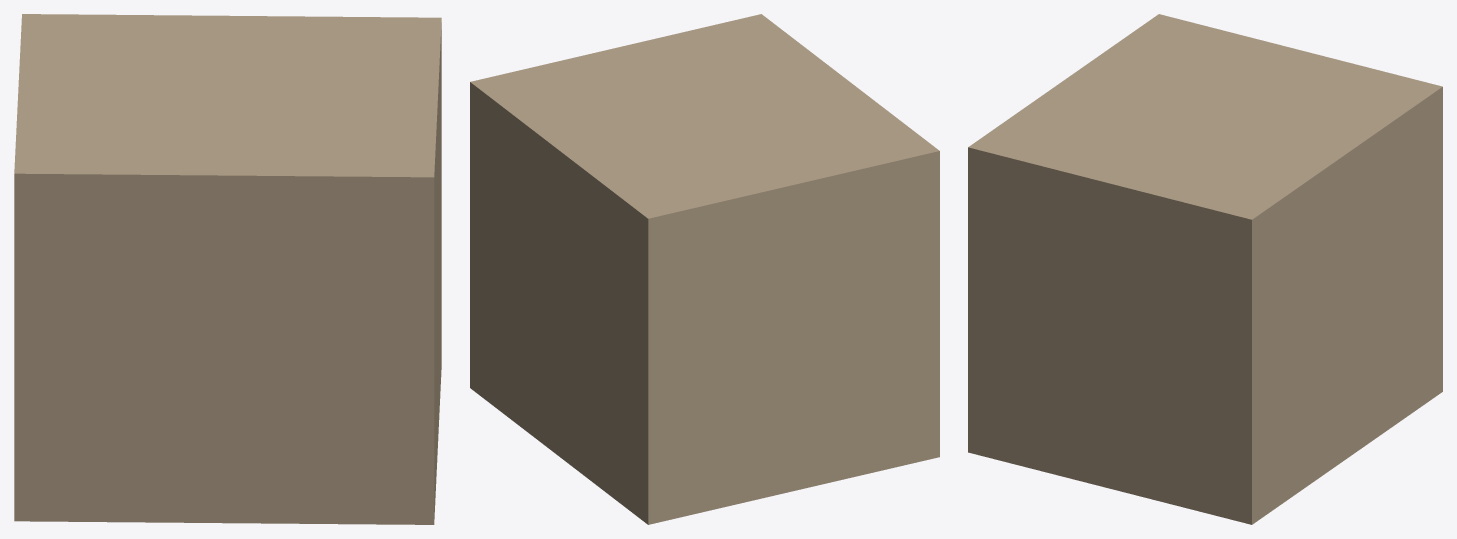
The model's file is bld_101353598.dae.
The picture shows the model from 3 angles, left to right: view 1: azimuth 30°, elevation 25°; view 2: azimuth 150°, elevation 25°; view 3: azimuth 270°, elevation 25°; orthographic projection. The views are drawn at different scales.
Visible parts, largest first — view 1: bld_101353598; view 2: bld_101353598; view 3: bld_101353598.
Part boxes in pixels (bbox=[...]): bld_101353598: bbox=[14, 14, 441, 524]; bld_101353598: bbox=[470, 14, 939, 524]; bld_101353598: bbox=[968, 14, 1442, 524].
Bounding box in the file's own units: 11.57 × 11.28 × 8.
